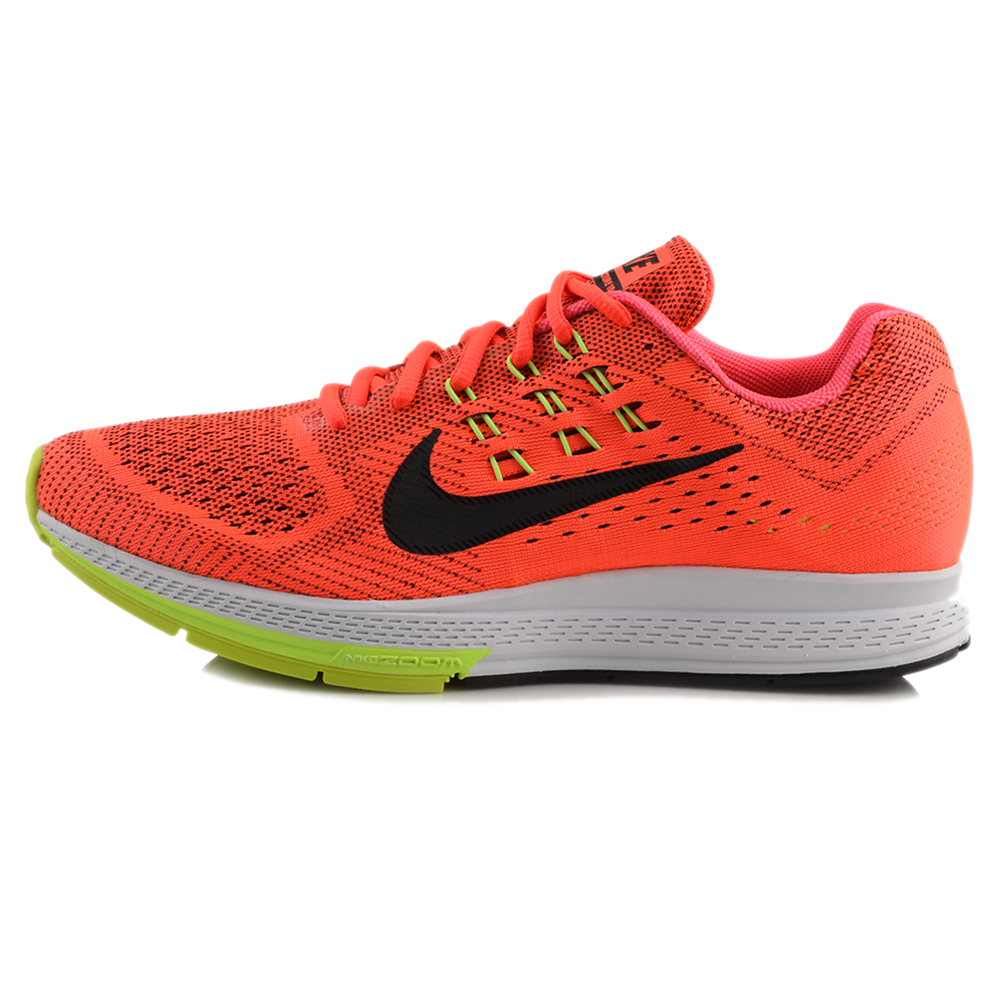Nike: (379, 420, 748, 562)
